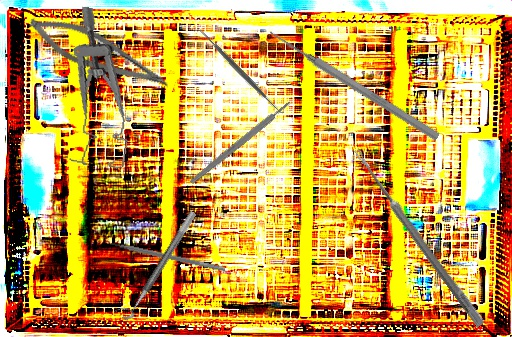Fixation Ring: (113, 204, 198, 323)
Micro Scissor: (21, 7, 178, 98)
Pusher: (266, 26, 442, 143)
Scalpel Handle: (188, 99, 293, 186)
Spatula Surgical: (192, 22, 287, 120), (102, 235, 227, 272)
Speculum: (56, 6, 148, 171)
Surgical Spoon: (350, 147, 487, 328)
